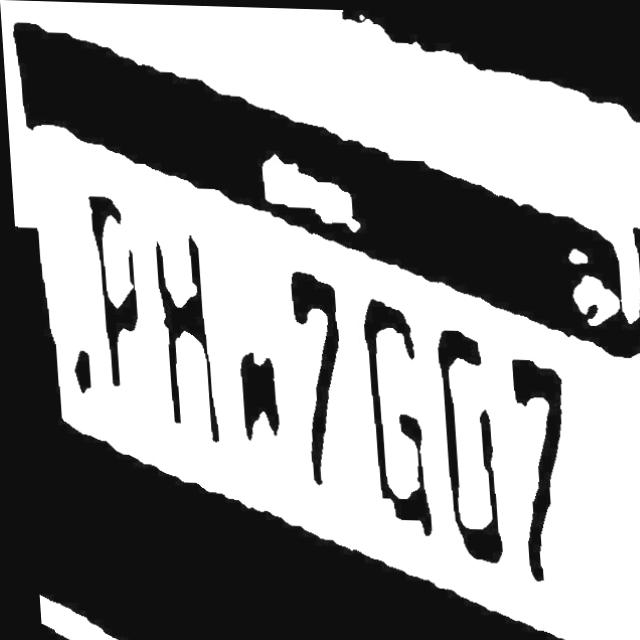0: (417, 312, 493, 577)
7: (486, 326, 570, 595), (267, 245, 350, 498)
g: (342, 270, 427, 546)
h: (139, 208, 221, 457)
p: (78, 190, 162, 414)
w: (200, 234, 288, 477)
